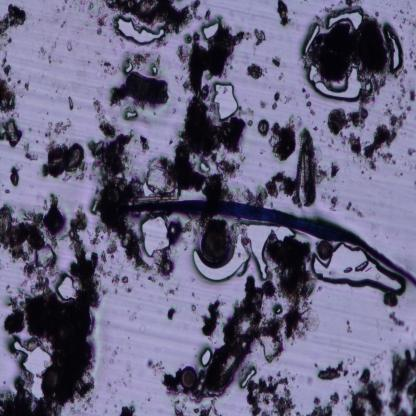Air bubble: (308, 244, 407, 296), (188, 230, 249, 288), (244, 222, 296, 282), (6, 336, 52, 396), (307, 65, 376, 99), (116, 17, 168, 45), (142, 214, 172, 257), (382, 22, 405, 74), (212, 82, 239, 119), (324, 10, 364, 29), (300, 24, 323, 57), (54, 273, 79, 299), (240, 365, 258, 390), (202, 21, 220, 39), (200, 347, 212, 368), (122, 108, 140, 121), (142, 182, 154, 198), (123, 60, 134, 75), (198, 162, 211, 174), (65, 97, 75, 110)
Background material: (198, 242, 309, 403), (0, 281, 97, 416), (148, 95, 245, 197), (88, 131, 146, 278), (176, 25, 249, 97), (361, 92, 416, 172), (308, 14, 382, 72), (102, 0, 197, 27), (0, 207, 45, 258), (104, 73, 170, 106), (388, 338, 416, 414), (242, 377, 298, 414), (348, 367, 390, 415), (54, 0, 108, 37), (68, 213, 94, 278), (168, 389, 217, 416), (271, 119, 297, 162), (327, 106, 369, 132), (145, 255, 174, 292), (0, 4, 29, 38), (42, 146, 67, 180), (42, 201, 66, 235), (136, 48, 164, 77), (203, 299, 223, 338), (306, 391, 338, 415), (267, 171, 295, 197), (3, 306, 27, 336), (0, 118, 23, 148), (315, 361, 350, 380), (0, 78, 17, 115), (33, 245, 58, 270), (158, 370, 179, 399), (301, 89, 318, 121), (116, 361, 134, 391), (44, 119, 70, 139), (368, 345, 388, 369), (244, 186, 264, 209), (276, 0, 293, 27), (346, 131, 364, 156), (144, 357, 165, 377), (93, 97, 109, 120), (7, 164, 21, 188), (245, 63, 263, 81), (250, 29, 268, 46), (97, 121, 115, 138), (23, 143, 39, 162), (242, 103, 254, 128), (328, 196, 346, 212), (346, 199, 364, 215), (390, 313, 409, 328), (42, 41, 54, 63), (330, 158, 342, 179), (101, 58, 115, 76), (116, 282, 130, 300), (324, 136, 339, 152), (400, 70, 409, 96), (257, 118, 270, 136), (138, 137, 151, 154), (0, 56, 11, 76), (116, 402, 134, 414), (107, 345, 118, 364), (165, 306, 178, 321), (407, 51, 416, 72), (142, 391, 155, 405), (3, 34, 15, 47), (316, 166, 328, 179), (398, 16, 408, 30), (272, 52, 282, 66), (344, 356, 355, 368), (273, 91, 279, 112), (189, 302, 198, 314), (347, 318, 353, 336), (285, 90, 291, 108), (23, 79, 31, 92), (102, 285, 108, 298), (77, 174, 84, 185), (66, 41, 73, 52), (398, 7, 406, 14), (261, 101, 267, 110)
Cotton: (125, 197, 416, 287)
Diatom: (294, 124, 319, 206), (199, 231, 228, 264), (66, 140, 82, 172), (180, 366, 198, 389), (316, 241, 332, 259), (384, 291, 400, 307)
